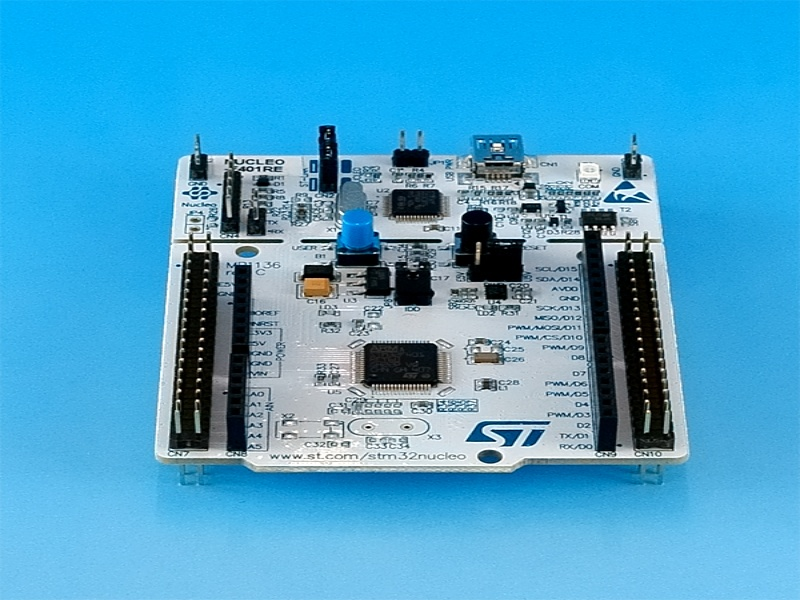stmnucleo: (149, 109, 694, 508)
